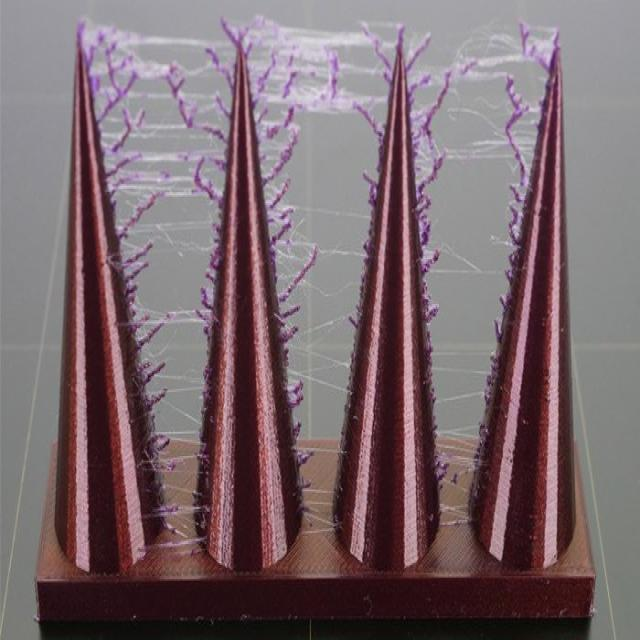stringing: (79, 19, 233, 240), (115, 249, 213, 531), (407, 20, 548, 166), (260, 144, 318, 477), (244, 17, 393, 126), (432, 342, 497, 522), (414, 183, 441, 329), (503, 188, 527, 268)
